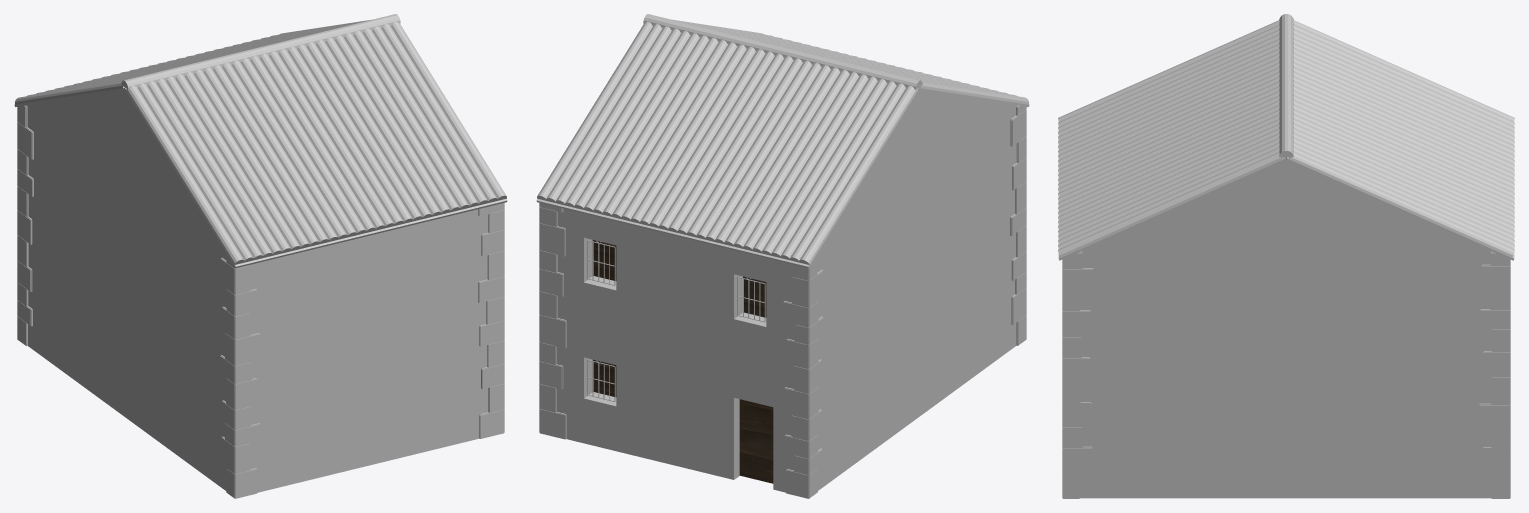
Rendered from casa_two_story.gltf.
3 renders of one model, left to right at view 1: azimuth 30°, elevation 25°; view 2: azimuth 150°, elevation 25°; view 3: azimuth 270°, elevation 25°, orthographic. The views are drawn at different scales.
Visible parts, largest first — view 1: casa_two_story_shell, casa_two_story_roof_tile_b_0, casa_two_story_roof_tile_b_28, casa_two_story_roof_tile_b_12, casa_two_story_roof_tile_b_5, casa_two_story_roof_tile_b_19, casa_two_story_roof_tile_b_1, casa_two_story_roof_tile_b_11, casa_two_story_roof_tile_b_16, casa_two_story_roof_tile_b_25, casa_two_story_roof_tile_b_14, casa_two_story_roof_tile_b_23 (+33 smaller); view 2: casa_two_story_shell, casa_two_story_ground_door0, casa_two_story_roof_tile_a_28, casa_two_story_roof_tile_a_0, casa_two_story_roof_tile_a_3, casa_two_story_roof_tile_a_23, casa_two_story_roof_tile_a_2, casa_two_story_roof_tile_a_5, casa_two_story_roof_tile_a_9, casa_two_story_roof_tile_a_12, casa_two_story_roof_tile_a_14, casa_two_story_roof_tile_a_16 (+37 smaller); view 3: casa_two_story_shell, casa_two_story_roof_tile_a_0, casa_two_story_roof_tile_b_28, casa_two_story_roof_tile_a_12, casa_two_story_roof_tile_b_16, casa_two_story_roof_tile_a_3, casa_two_story_roof_tile_a_15, casa_two_story_roof_tile_a_17, casa_two_story_roof_tile_a_19, casa_two_story_roof_tile_a_22, casa_two_story_roof_tile_a_26, casa_two_story_roof_tile_b_2 (+60 smaller).
Boxes of the visible parts, box(x1,y1,x2,y2) form: casa_two_story_shell: box(14, 87, 507, 492); casa_two_story_roof_tile_b_0: box(126, 85, 244, 264); casa_two_story_roof_tile_b_28: box(391, 21, 506, 200); casa_two_story_roof_tile_b_12: box(240, 58, 357, 237); casa_two_story_roof_tile_b_5: box(175, 74, 291, 253); casa_two_story_roof_tile_b_19: box(306, 42, 422, 221); casa_two_story_roof_tile_b_1: box(138, 83, 254, 262); casa_two_story_roof_tile_b_11: box(231, 60, 347, 239); casa_two_story_roof_tile_b_16: box(278, 49, 394, 228); casa_two_story_roof_tile_b_25: box(362, 28, 478, 207); casa_two_story_roof_tile_b_14: box(259, 53, 375, 232); casa_two_story_roof_tile_b_23: box(344, 33, 460, 212); casa_two_story_shell: box(536, 87, 1029, 492); casa_two_story_ground_door0: box(739, 399, 773, 483); casa_two_story_roof_tile_a_28: box(799, 85, 917, 264); casa_two_story_roof_tile_a_0: box(537, 21, 652, 200); casa_two_story_roof_tile_a_3: box(565, 28, 681, 207); casa_two_story_roof_tile_a_23: box(752, 74, 868, 253); casa_two_story_roof_tile_a_2: box(555, 26, 671, 205); casa_two_story_roof_tile_a_5: box(583, 33, 699, 212); casa_two_story_roof_tile_a_9: box(621, 42, 737, 221); casa_two_story_roof_tile_a_12: box(649, 49, 765, 228); casa_two_story_roof_tile_a_14: box(668, 53, 784, 232); casa_two_story_roof_tile_a_16: box(687, 58, 803, 237); casa_two_story_shell: box(1058, 126, 1514, 498); casa_two_story_roof_tile_a_0: box(1289, 152, 1514, 257); casa_two_story_roof_tile_b_28: box(1058, 152, 1283, 257); casa_two_story_roof_tile_a_12: box(1293, 95, 1514, 197); casa_two_story_roof_tile_b_16: box(1058, 95, 1279, 197); casa_two_story_roof_tile_a_3: box(1293, 137, 1514, 239); casa_two_story_roof_tile_a_15: box(1293, 81, 1514, 182); casa_two_story_roof_tile_a_17: box(1293, 72, 1514, 173); casa_two_story_roof_tile_a_19: box(1293, 62, 1514, 164); casa_two_story_roof_tile_a_22: box(1293, 48, 1514, 150); casa_two_story_roof_tile_a_26: box(1293, 29, 1514, 131); casa_two_story_roof_tile_b_2: box(1058, 29, 1279, 131).
Bounding box in the file's own units: 7.64 × 9.06 × 10.75.
